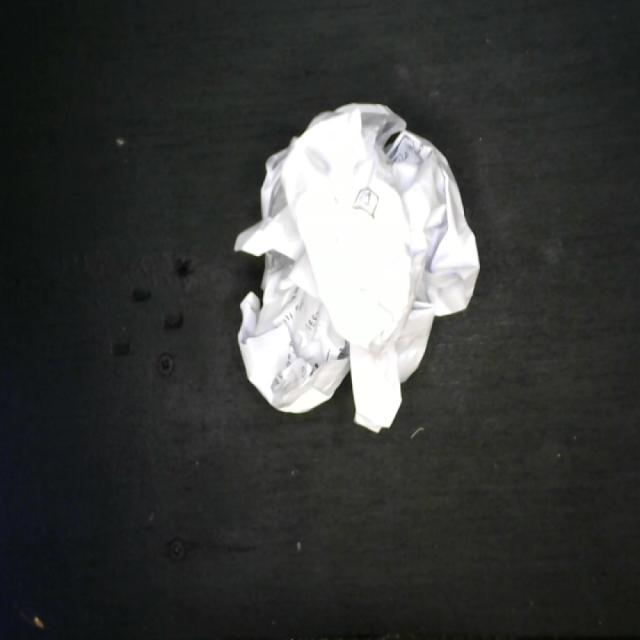biodegradable: (232, 97, 481, 437)
